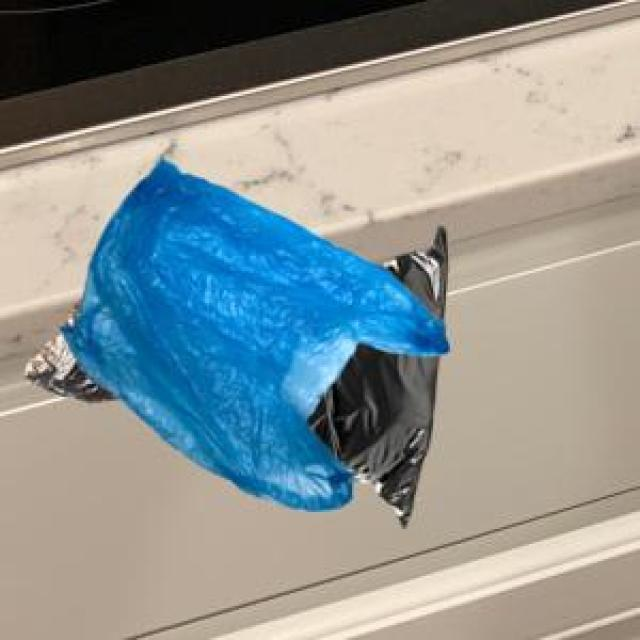miscellaneous trash: (21, 222, 444, 523)
